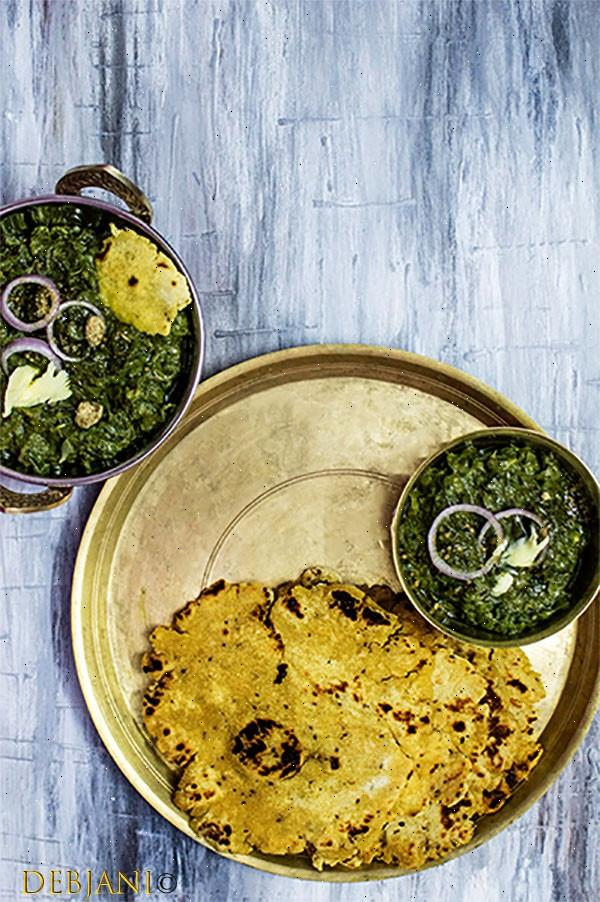saag: (0, 214, 188, 473), (417, 449, 593, 625)
